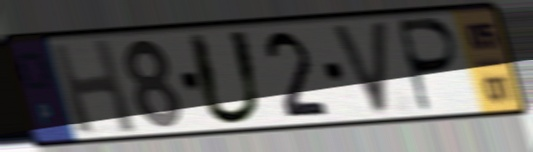2: (262, 28, 333, 121)
8: (121, 36, 185, 131)
H: (47, 35, 141, 137)
P: (396, 15, 463, 116)
U: (183, 28, 268, 129)
V: (327, 18, 392, 119)
